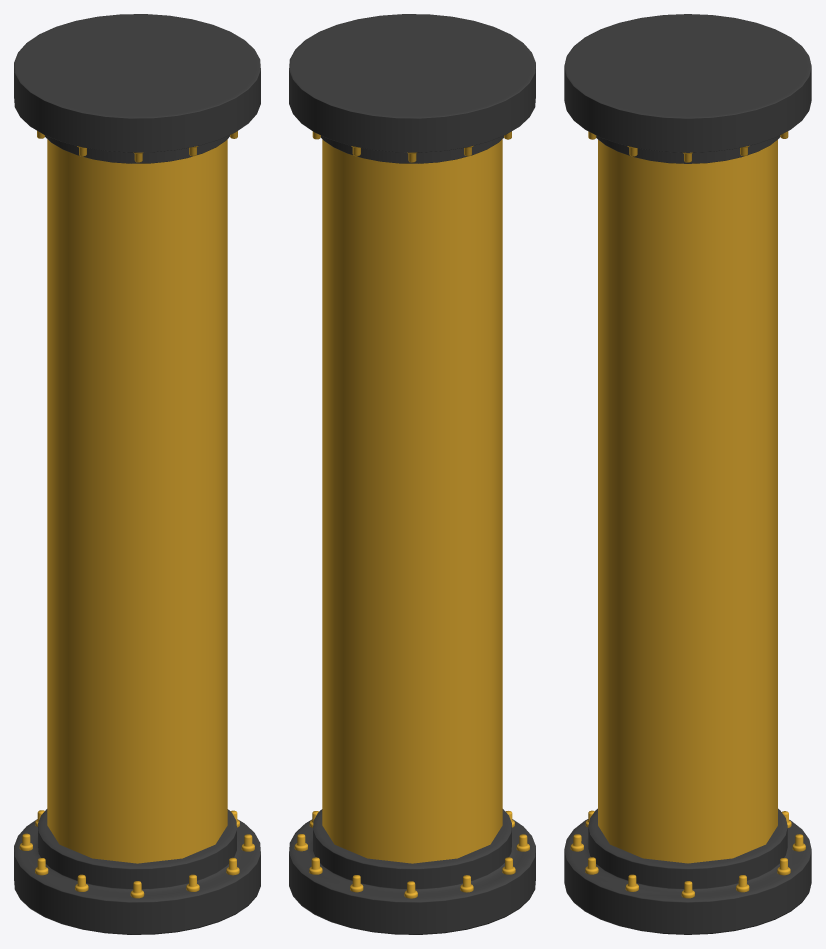
File: Pipe1m.fbx
3 views of the same model, side by side, from view 1: azimuth 30°, elevation 25°; view 2: azimuth 150°, elevation 25°; view 3: azimuth 270°, elevation 25° (orthographic).
Parts seen in each view (by area): view 1: Pipe, Giunzione1, Giunzione2; view 2: Pipe, Giunzione1, Giunzione2; view 3: Pipe, Giunzione1, Giunzione2.
Boxes of the visible parts, x1,y1,x2,y2 form: Pipe: (47, 139, 227, 863); Giunzione1: (14, 14, 260, 163); Giunzione2: (14, 809, 260, 934); Pipe: (322, 139, 502, 863); Giunzione1: (289, 14, 535, 163); Giunzione2: (289, 809, 535, 934); Pipe: (598, 139, 777, 863); Giunzione1: (564, 14, 811, 163); Giunzione2: (564, 808, 811, 934).
Bounding box in the file's own units: 27.48 × 100 × 27.48.
